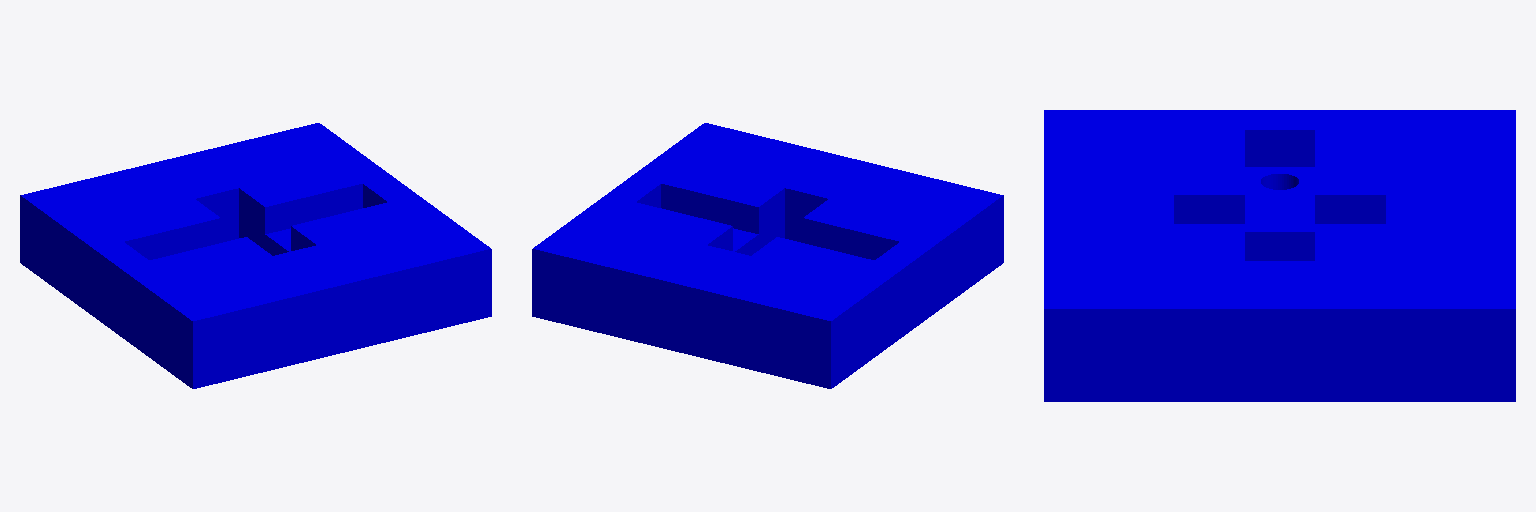
robot.urdf — board2_base:
<?xml version="1.0"?>
<robot name="board2_base">
    <link name="board2_base">
        <visual>
            <origin xyz="0 0 0 " rpy=" 0 0 0"/>
            <geometry>
                <mesh filename="./MOMO_Board2_Base.stl" scale="0.001 0.001 0.001"/>
            </geometry>
            <material name="red">
                <color rgba="0.0 0.0 1.0 1.0"/>
            </material>
        </visual>
        <collision>
            <origin xyz="0 0 0" rpy="0 0 0"/>
            <geometry>
                <mesh filename="./MOMO_Board2_Base.stl" scale="0.001 0.001 0.001"/>
            </geometry>
        </collision>
    </link>
</robot>

--- Facts derived from the render (not from the file) ---
Views: 3 orthographic renders of the robot side by side, from view 1: azimuth 30°, elevation 25°; view 2: azimuth 150°, elevation 25°; view 3: azimuth 270°, elevation 25°.
Robot: board2_base — 1 links, 0 joints (none); root link board2_base; default pose: all joints at 0.
Links seen in each view (by area): view 1: board2_base; view 2: board2_base; view 3: board2_base.
Boxes of the visible links, bbox=[...] form: board2_base: bbox=[20, 123, 491, 388]; board2_base: bbox=[532, 123, 1003, 388]; board2_base: bbox=[1044, 110, 1515, 401].
Size in the robot's own frame: 0.23 by 0.23 by 0.05 metres.
Meshes: 1 distinct files referenced, 1 mesh visuals loaded (1 ASCII STL).